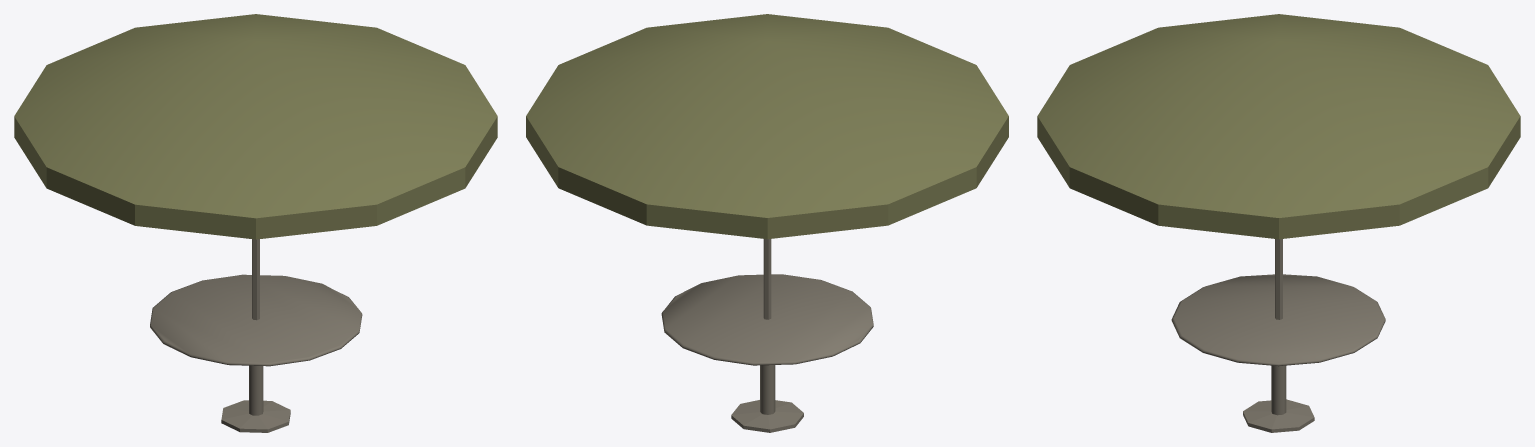
File: OutdoorTableWithUmbrella.FBX
3 renders of one model, left to right at view 1: azimuth 30°, elevation 25°; view 2: azimuth 150°, elevation 25°; view 3: azimuth 270°, elevation 25°, orthographic.
Visible parts, largest first — view 1: Cylinder107; view 2: Cylinder107; view 3: Cylinder107.
Boxes of the visible parts, box(x1,y1,x2,y2) form: Cylinder107: box(14, 14, 497, 432); Cylinder107: box(526, 14, 1008, 432); Cylinder107: box(1037, 14, 1520, 432).
Bounding box in the file's own units: 57.47 × 49.49 × 57.47.
1 material, 1 textured.
